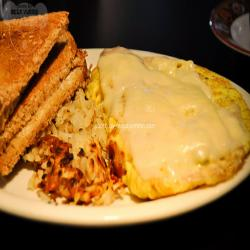bread: (1, 19, 78, 156)
omelette: (107, 54, 242, 187)
